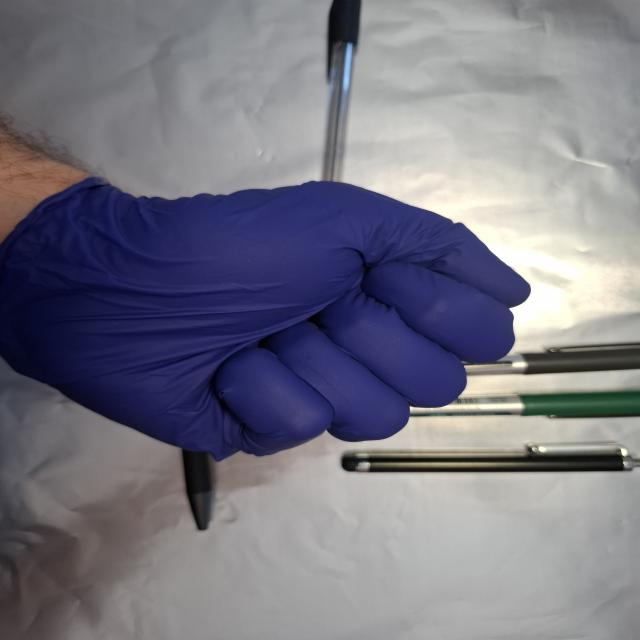glove_on: (3, 174, 537, 466)
